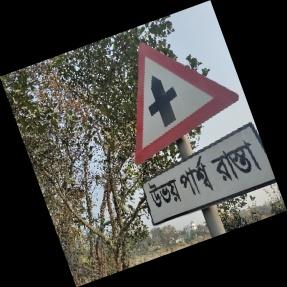Crossroad: (134, 41, 277, 230)
